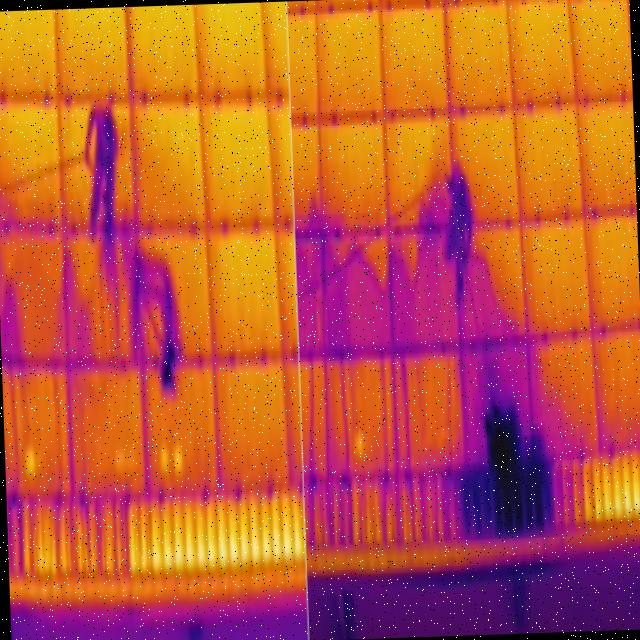Hotspot: (126, 492, 310, 574), (575, 457, 640, 510), (23, 447, 37, 481), (171, 447, 181, 478), (160, 443, 165, 469)
